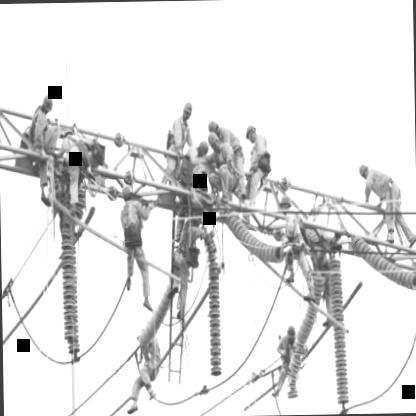helmet: (38, 90, 53, 120), (208, 130, 224, 156), (284, 320, 297, 350), (244, 122, 260, 146), (279, 191, 294, 216), (121, 181, 135, 207), (357, 159, 373, 181), (182, 97, 194, 126), (208, 114, 223, 134), (193, 140, 208, 158)
